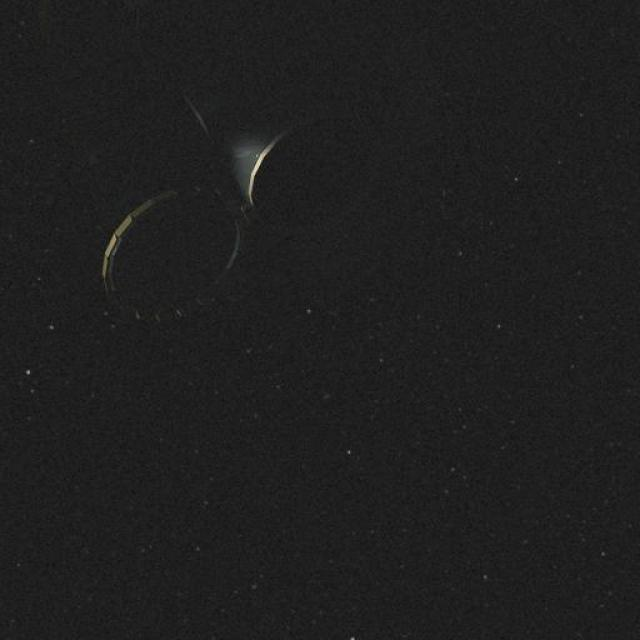cheops: (89, 65, 360, 307)
